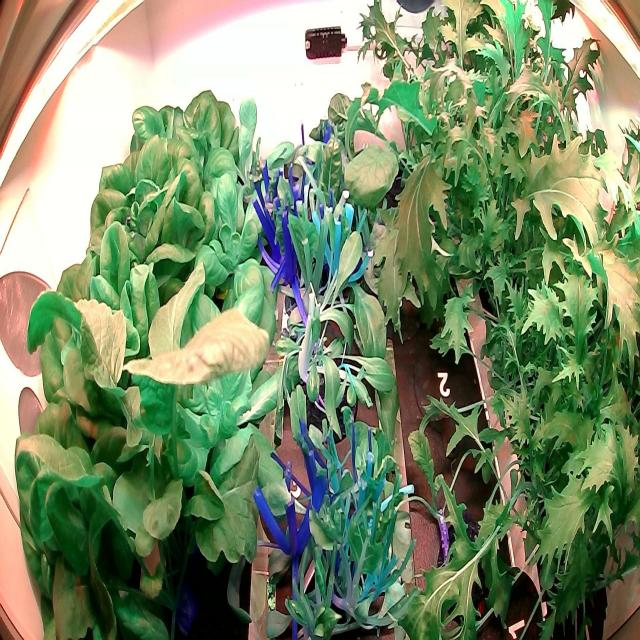Ready: (7, 393, 165, 640), (26, 222, 160, 457), (80, 128, 214, 310), (122, 74, 245, 228)
empty_pod: (407, 338, 471, 436)
young: (167, 340, 284, 502), (189, 162, 278, 329), (218, 92, 296, 249)
